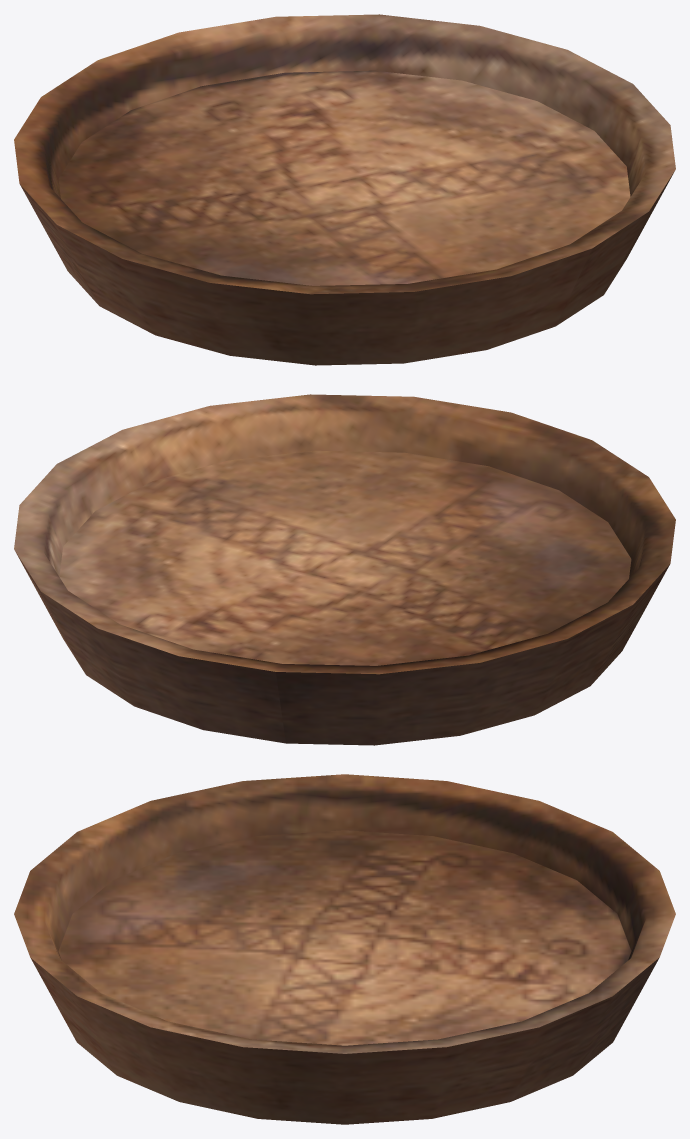
File: Bowl.dae
3 renders of one model, top to bottom at view 1: azimuth 30°, elevation 25°; view 2: azimuth 150°, elevation 25°; view 3: azimuth 270°, elevation 25°, orthographic.
Parts seen in each view (by area): view 1: meshU3D; view 2: meshU3D; view 3: meshU3D.
Part boxes in pixels (x1,y1,x2,y2): meshU3D: (14,14,675,365); meshU3D: (14,394,675,745); meshU3D: (14,774,675,1124).
Bounding box in the file's own units: 12.2 × 1.86 × 12.2.
